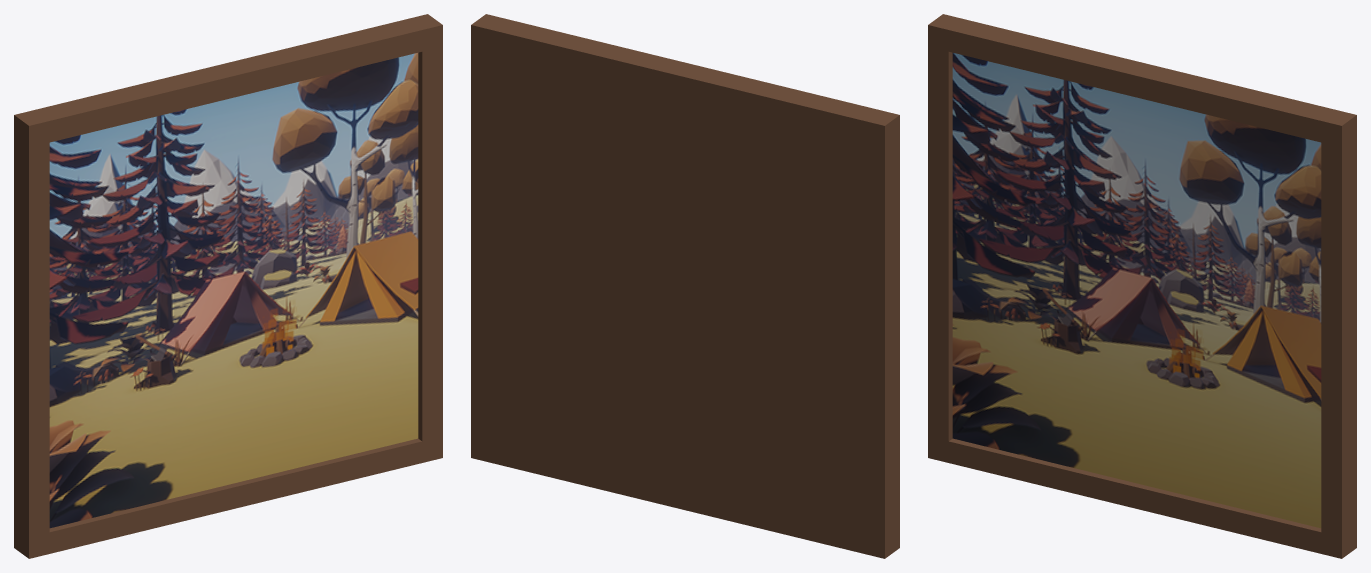
Rendered from Painting_24.fbx.
3 views of the same model, side by side, from view 1: azimuth 30°, elevation 25°; view 2: azimuth 150°, elevation 25°; view 3: azimuth 330°, elevation 25° (orthographic).
Visible parts, largest first — view 1: Painting_24; view 2: Painting_24; view 3: Painting_24.
Part boxes in pixels (x1,y1,x2,y2): Painting_24: (14,14,442,558); Painting_24: (471,14,899,558); Painting_24: (928,14,1356,558).
Size of the model in its own units: 50 by 50 by 3.14.
